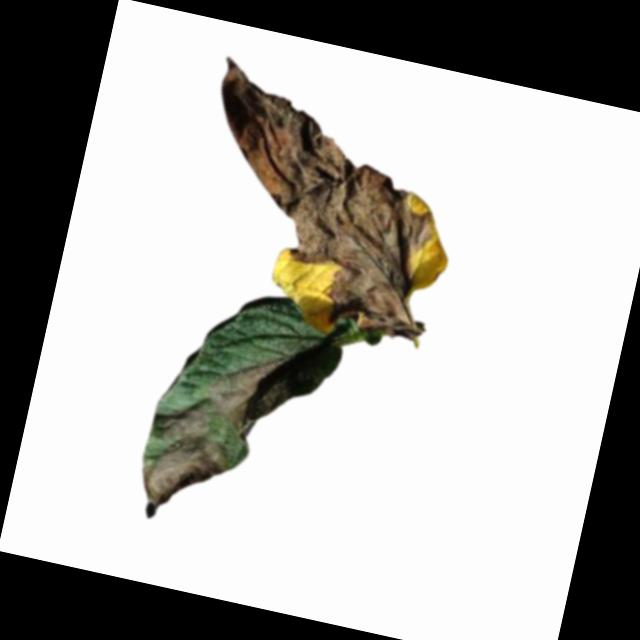Late_blight: (173, 54, 468, 349), (130, 400, 239, 531), (201, 339, 283, 444)
